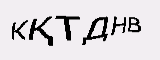В: (126, 10, 142, 35)
Д: (81, 13, 113, 45)
К: (7, 13, 26, 43)
Н: (110, 10, 128, 39)
Т: (56, 11, 78, 42)
Қ: (29, 12, 57, 46)
